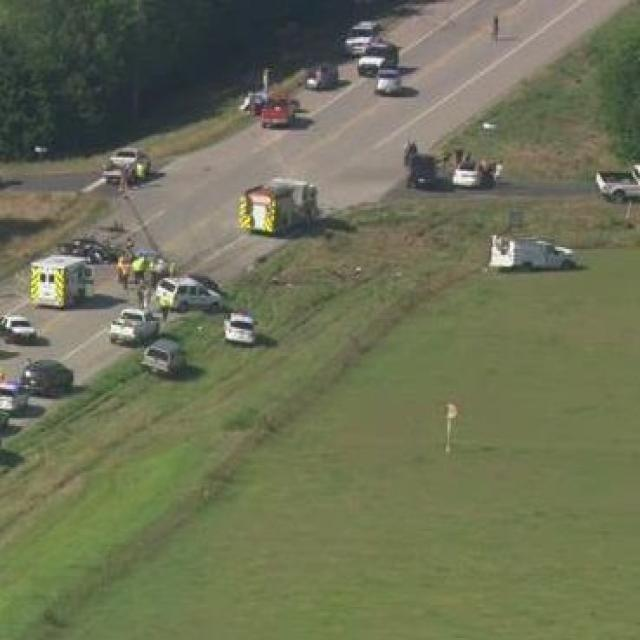traffic_incident: (399, 132, 506, 200), (57, 218, 123, 276)
